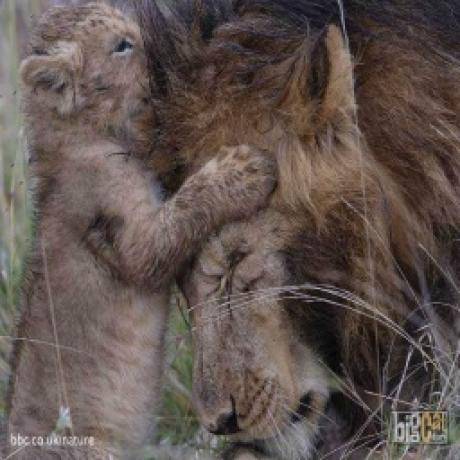Lion: (142, 0, 460, 460), (0, 0, 276, 460)
